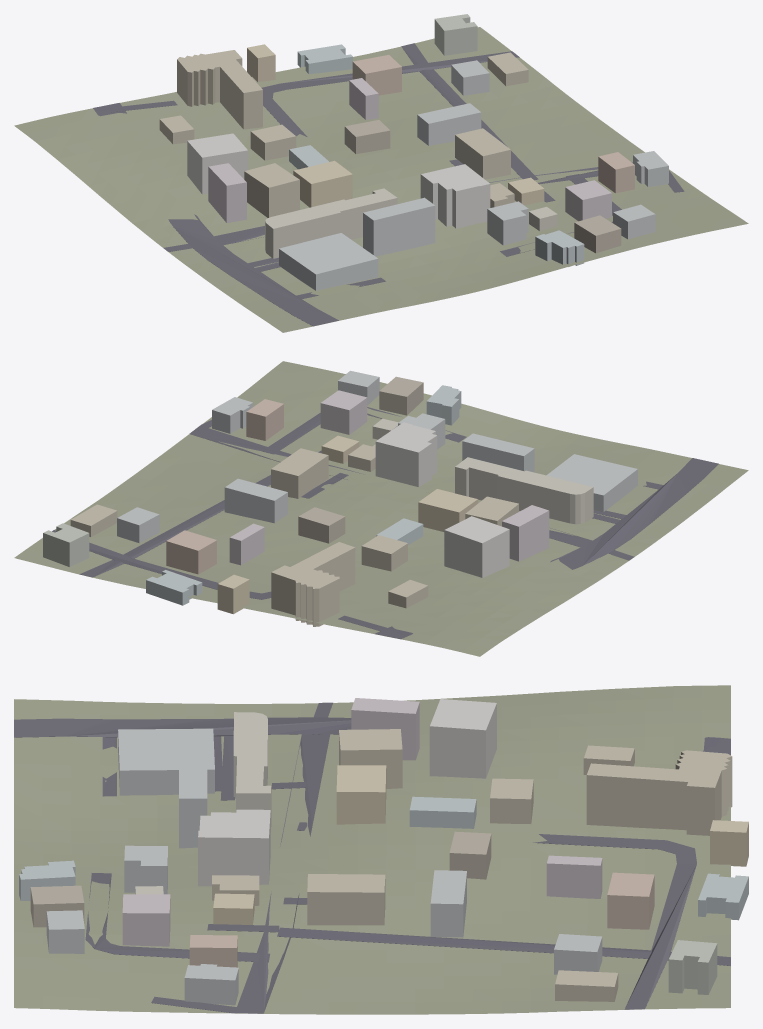
Rendered from chunk_2_2.glb.
3 views of the same model, one above another, from view 1: azimuth 30°, elevation 25°; view 2: azimuth 150°, elevation 25°; view 3: azimuth 270°, elevation 25° (orthographic). The views are drawn at different scales.
Visible parts, largest first — view 1: geometry_32, geometry_2, geometry_1, geometry_33, geometry_0, geometry_4, geometry_3, geometry_28, geometry_25, geometry_31, geometry_27, geometry_35 (+24 smaller); view 2: geometry_32, geometry_1, geometry_2, geometry_33, geometry_4, geometry_25, geometry_0, geometry_30, geometry_31, geometry_22, geometry_3, geometry_13 (+25 smaller); view 3: geometry_32, geometry_2, geometry_0, geometry_33, geometry_25, geometry_4, geometry_35, geometry_31, geometry_44, geometry_1, geometry_34, geometry_27 (+27 smaller).
Boxes of the visible parts, x1=… form: geometry_32: x1=14, y1=27, x2=748, y2=332; geometry_2: x1=177, y1=50, x2=262, y2=129; geometry_1: x1=265, y1=188, x2=397, y2=258; geometry_33: x1=93, y1=103, x2=338, y2=326; geometry_0: x1=279, y1=233, x2=378, y2=290; geometry_4: x1=420, y1=164, x2=490, y2=228; geometry_3: x1=363, y1=197, x2=435, y2=256; geometry_28: x1=244, y1=163, x2=299, y2=217; geometry_25: x1=187, y1=133, x2=247, y2=194; geometry_31: x1=455, y1=128, x2=510, y2=179; geometry_27: x1=293, y1=160, x2=352, y2=207; geometry_35: x1=261, y1=51, x2=519, y2=136; geometry_32: x1=14, y1=361, x2=748, y2=656; geometry_1: x1=455, y1=457, x2=593, y2=524; geometry_2: x1=271, y1=542, x2=355, y2=626; geometry_33: x1=375, y1=458, x2=718, y2=639; geometry_4: x1=375, y1=422, x2=437, y2=486; geometry_25: x1=444, y1=516, x2=509, y2=577; geometry_0: x1=546, y1=454, x2=637, y2=511; geometry_30: x1=224, y1=478, x2=287, y2=523; geometry_31: x1=271, y1=448, x2=328, y2=498; geometry_22: x1=502, y1=505, x2=549, y2=561; geometry_3: x1=462, y1=433, x2=534, y2=472; geometry_13: x1=166, y1=530, x2=216, y2=574; geometry_32: x1=14, y1=685, x2=730, y2=1014; geometry_2: x1=586, y1=750, x2=732, y2=835; geometry_0: x1=118, y1=728, x2=214, y2=795; geometry_33: x1=14, y1=717, x2=730, y2=755; geometry_25: x1=429, y1=699, x2=496, y2=778; geometry_4: x1=198, y1=809, x2=270, y2=886; geometry_35: x1=297, y1=822, x2=696, y2=1009; geometry_31: x1=307, y1=874, x2=385, y2=925; geometry_44: x1=235, y1=734, x2=330, y2=1013; geometry_1: x1=233, y1=712, x2=271, y2=832; geometry_34: x1=277, y1=927, x2=730, y2=965; geometry_27: x1=336, y1=765, x2=386, y2=824.
Bounding box in the file's own units: 250 × 24.7 × 256.
